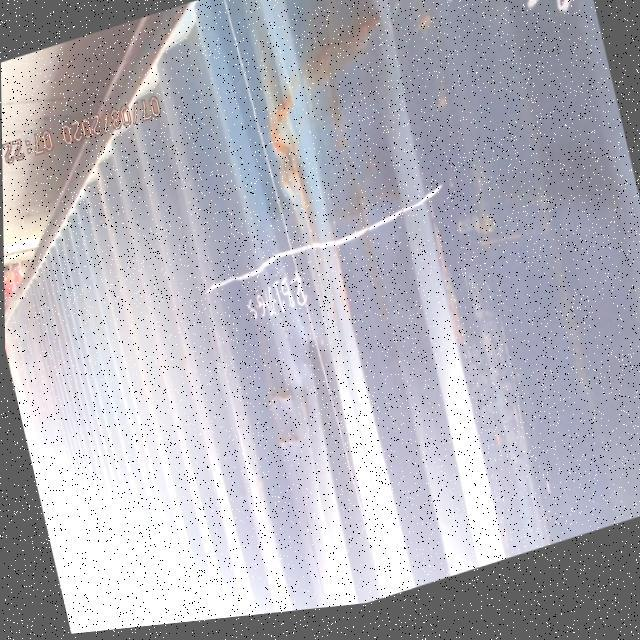rust: (285, 1, 421, 244)
